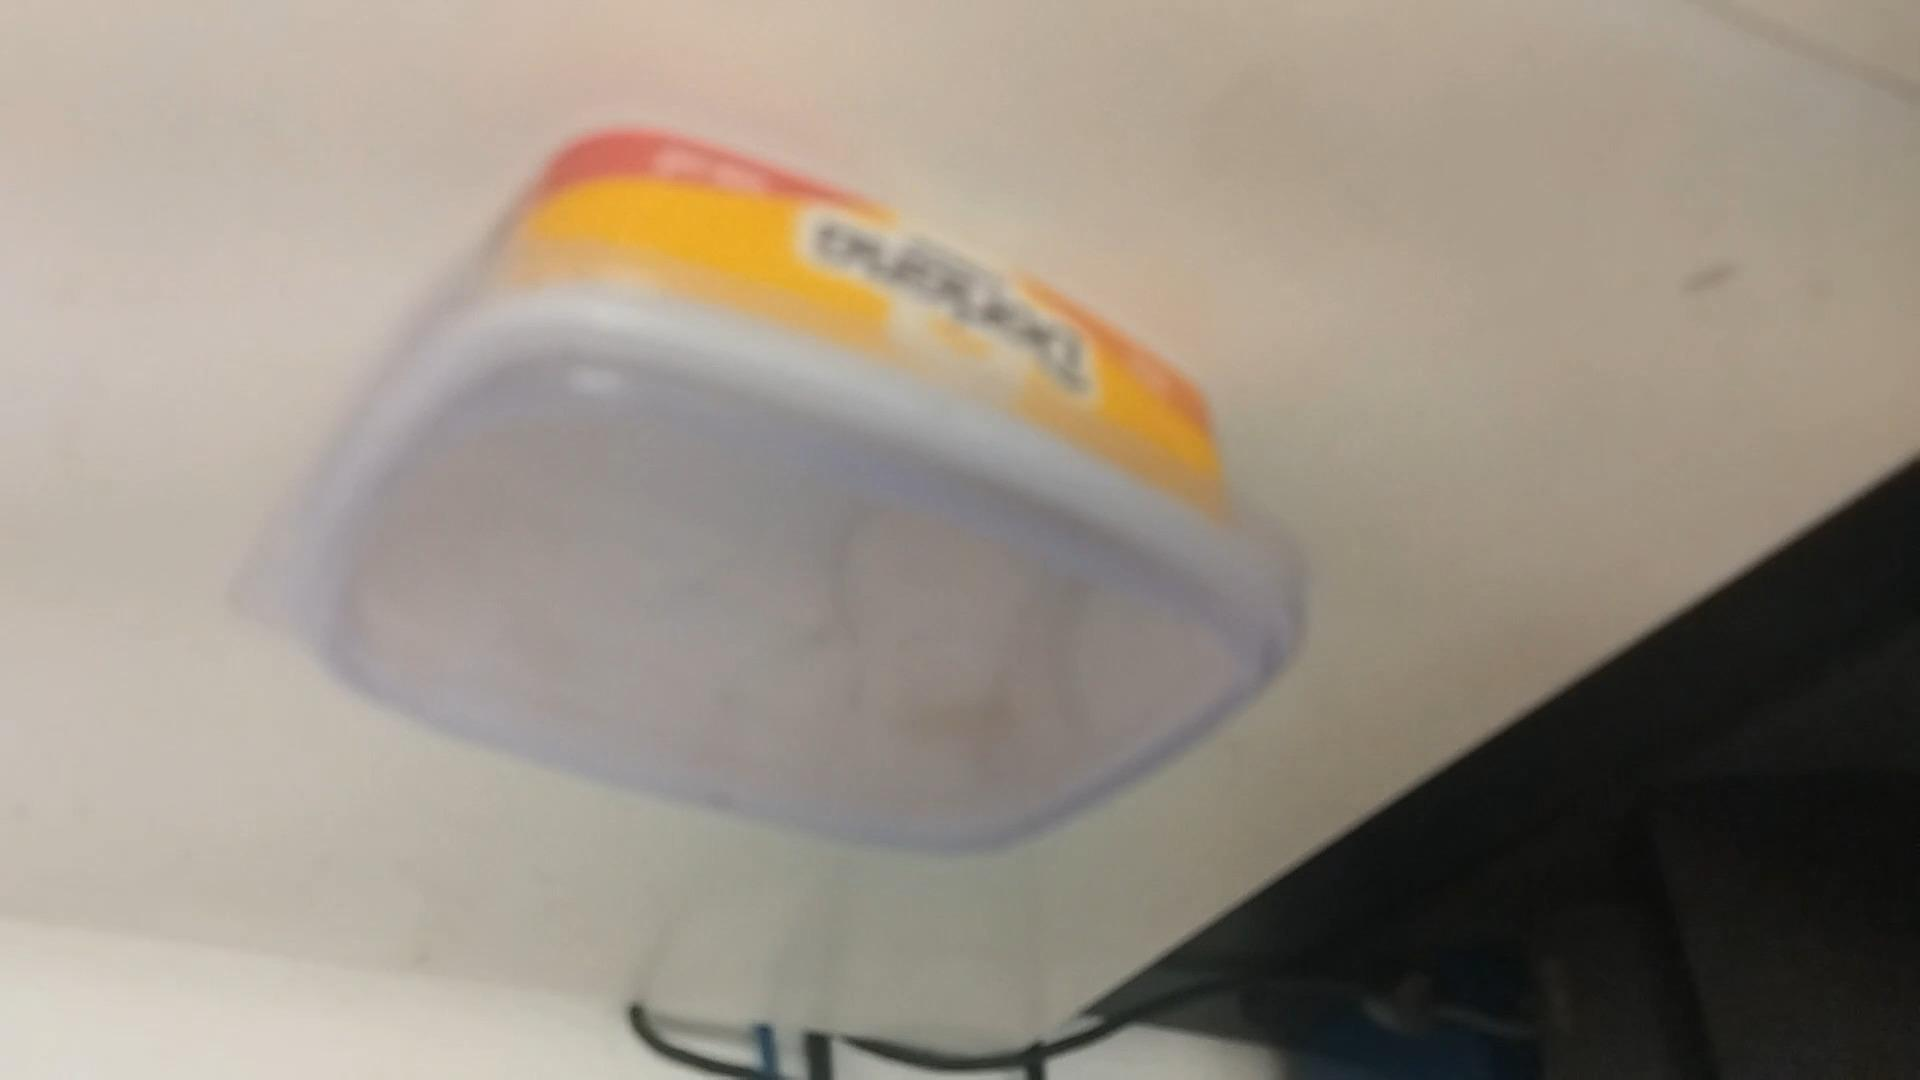butter: (231, 140, 1300, 858)
